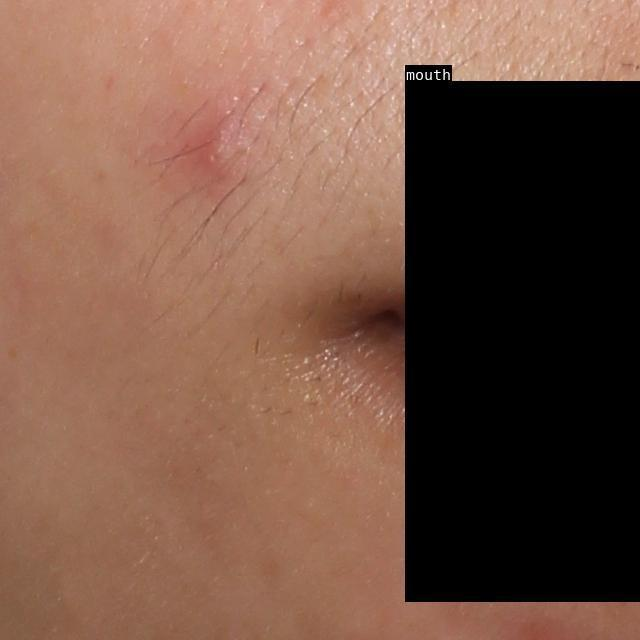papule: (181, 91, 269, 198)
